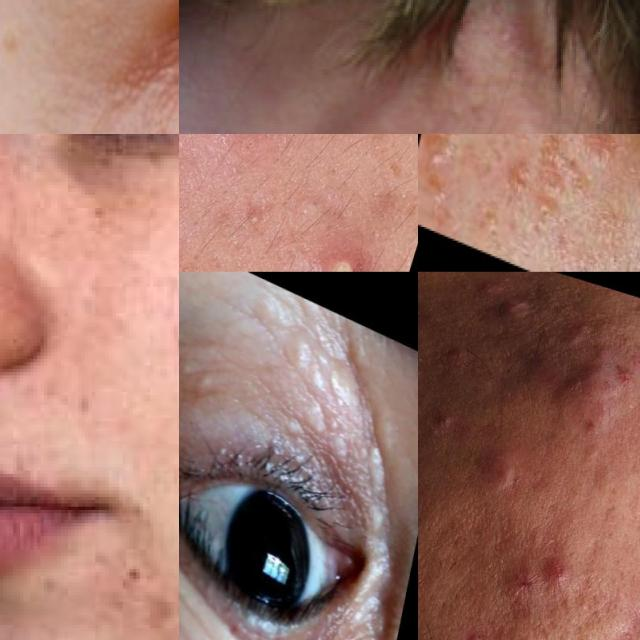acne_scars: (607, 595, 640, 640)
comedone: (418, 398, 468, 447), (418, 350, 436, 390)
cystic: (534, 321, 640, 437), (471, 440, 526, 503), (487, 282, 545, 328), (542, 542, 586, 600)
flat_wart: (518, 134, 580, 233), (568, 134, 628, 188), (418, 134, 469, 181), (497, 154, 537, 202)
papule: (462, 541, 565, 640)
pustule: (308, 224, 374, 272)
sebo-crystan-conglo: (192, 134, 297, 172)
syringoma: (271, 376, 360, 460)
